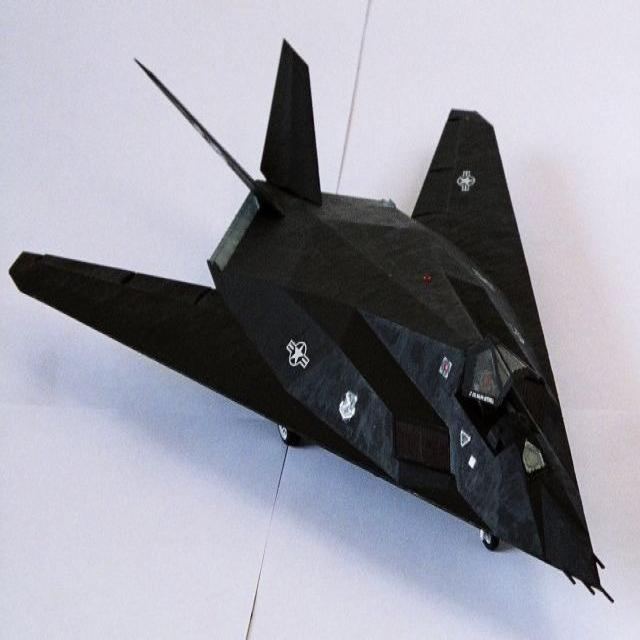F117: (0, 31, 636, 619)
